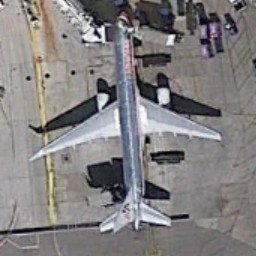Airplane: (24, 6, 229, 245)
